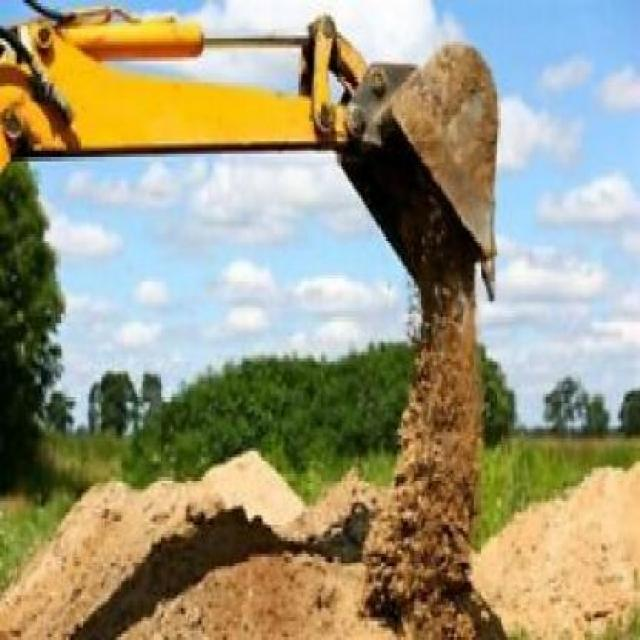Excavator: (1, 12, 502, 304)
